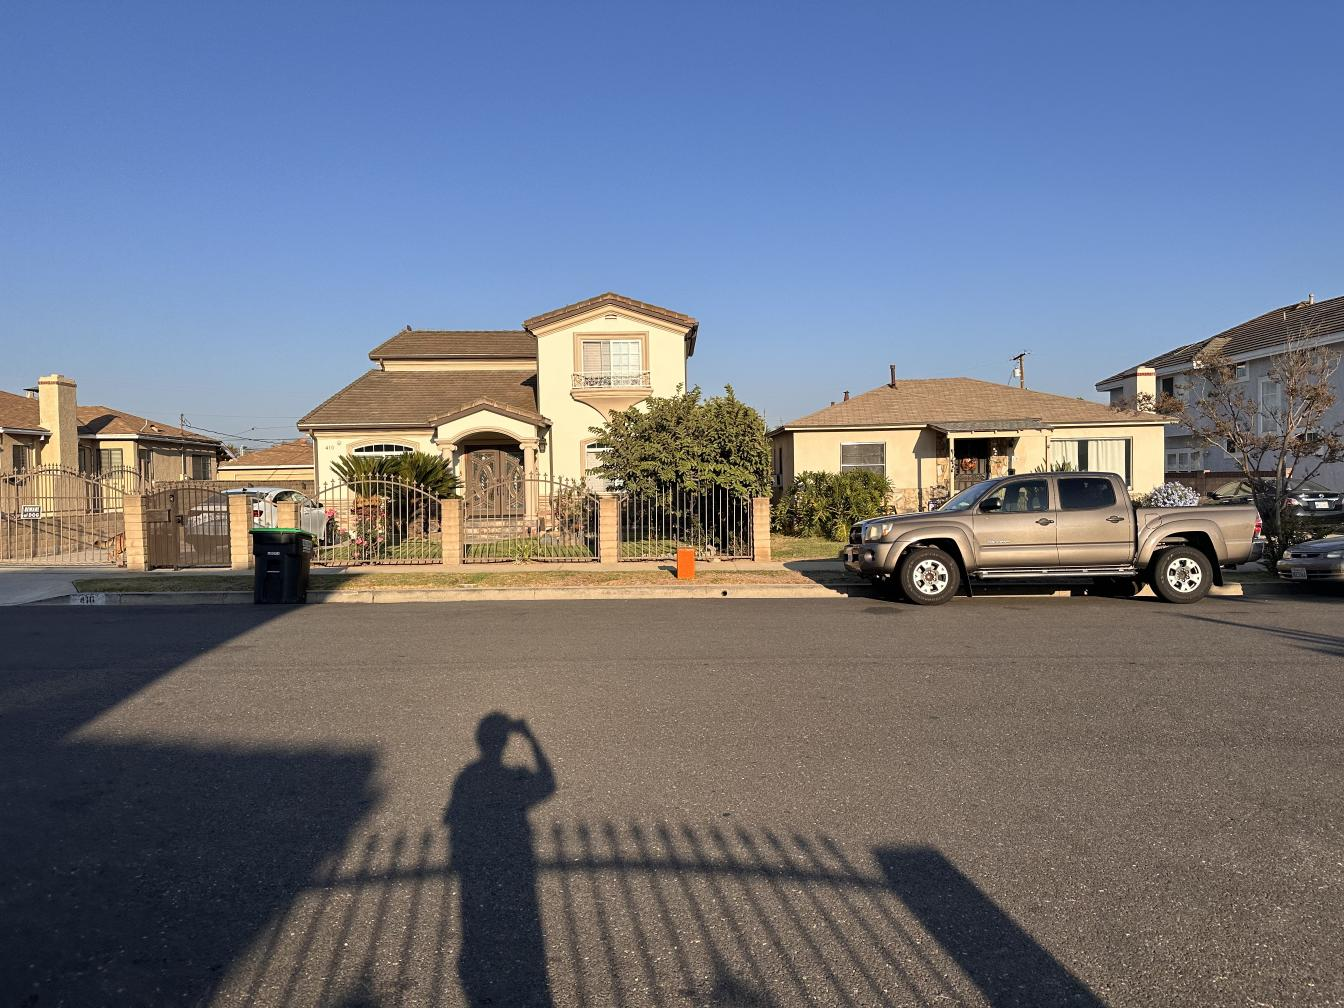curbs-laRr: (313, 580, 858, 609), (73, 588, 252, 611)
orange box: (675, 550, 697, 579)
